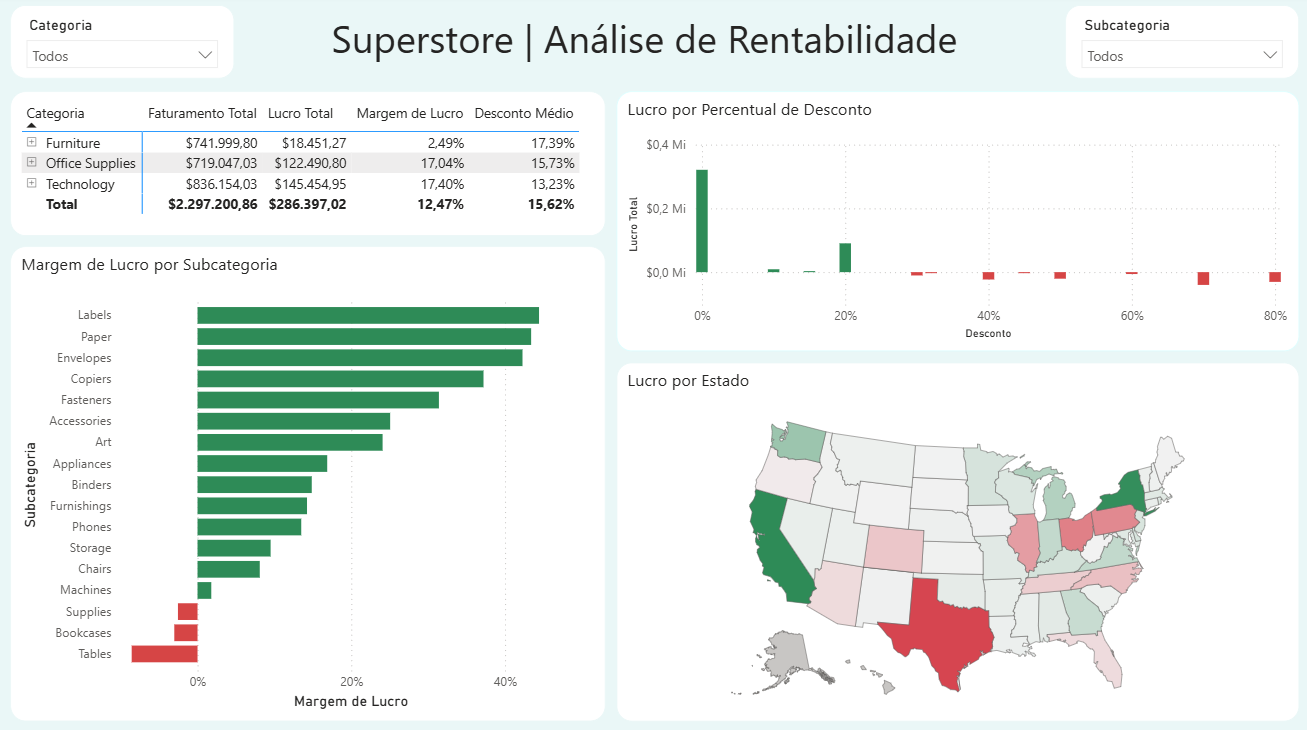

This screenshot's page, from the dashboard's own definition file:
{"tool":"powerbi","page":{"name":"Rentabilidade","canvas":[1280,720],"ordinal":1},"visuals":[{"type":"textbox","box":[320.4,12.2,639.5,68.5],"z":0},{"type":"slicer","fields":{"Values":["Orders.Category"]},"box":[11,9.8,218.9,72.1],"z":1000},{"type":"slicer","fields":{"Values":["Orders.Sub-Category"]},"box":[1043.1,9.8,228.7,72.1],"z":2000},{"type":"clusteredColumnChart","title":"Lucro por Percentual de Desconto","fields":{"Category":["Orders.Discount"],"Y":["Orders.Lucro Total"]},"box":[604.1,94.2,667.7,254.3],"z":3000},{"type":"clusteredBarChart","title":"Margem de Lucro por Subcategoria","fields":{"Category":["Orders.Sub-Category"],"Y":["Orders.Margem de Lucro"]},"box":[11,245.8,582.1,464.7],"z":4000},{"type":"pivotTable","title":"Resumo de Lucro por Subcategoria","fields":{"Rows":["Orders.Category","Orders.Sub-Category"],"Values":["Orders.Faturamento Total","Orders.Lucro Total","Orders.Margem de Lucro","Orders.Desconto Médio"]},"box":[11,94.2,582.1,141.8],"z":5000},{"type":"shapeMap","title":"Lucro por Estado","fields":{"Category":["Orders.State"],"Value":["Orders.Lucro Total"]},"box":[604.1,359.5,667.7,351],"z":6000}]}

Visuals, with their boxes in screenshot pixels (x1, y1, x2, y2), scaled from the page's 1280x720 canvas onto the 1307x730 screenshot:
textbox: 327:12:980:82
slicer - Orders.Category: 11:10:235:83
slicer - Orders.Sub-Category: 1065:10:1299:83
"Lucro por Percentual de Desconto" clusteredColumnChart: 617:96:1299:353
"Margem de Lucro por Subcategoria" clusteredBarChart: 11:249:606:720
"Resumo de Lucro por Subcategoria" pivotTable: 11:96:606:239
"Lucro por Estado" shapeMap: 617:364:1299:720
